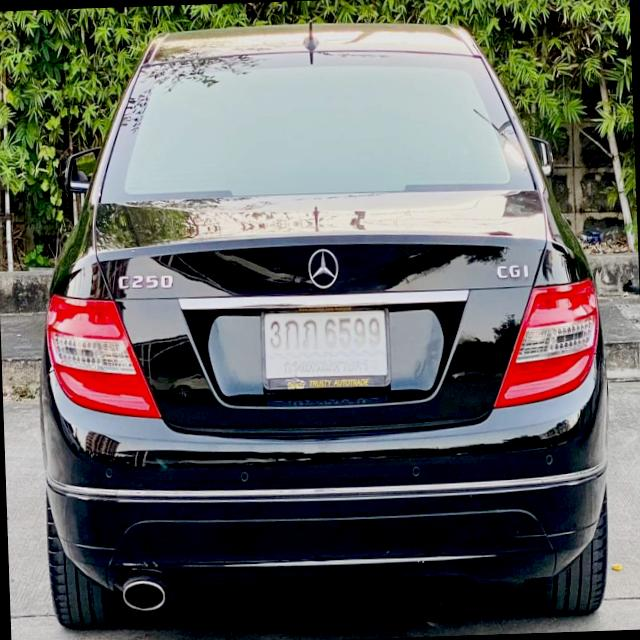license_plate: (258, 302, 392, 394)
